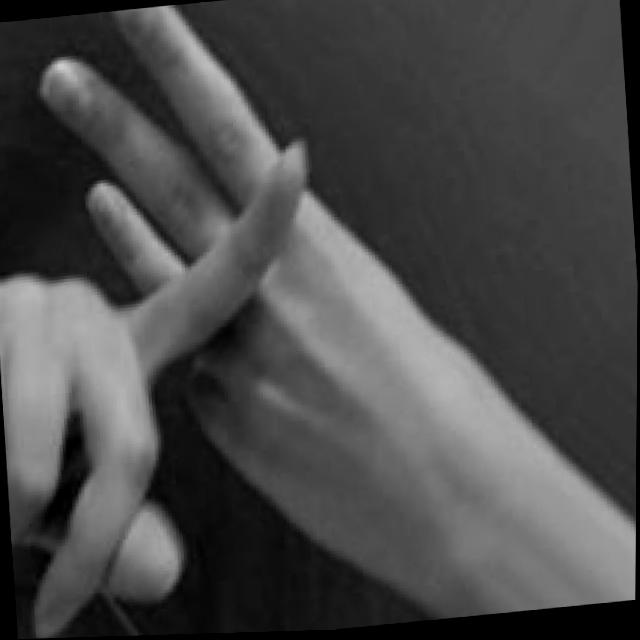E: (0, 0, 454, 640)
